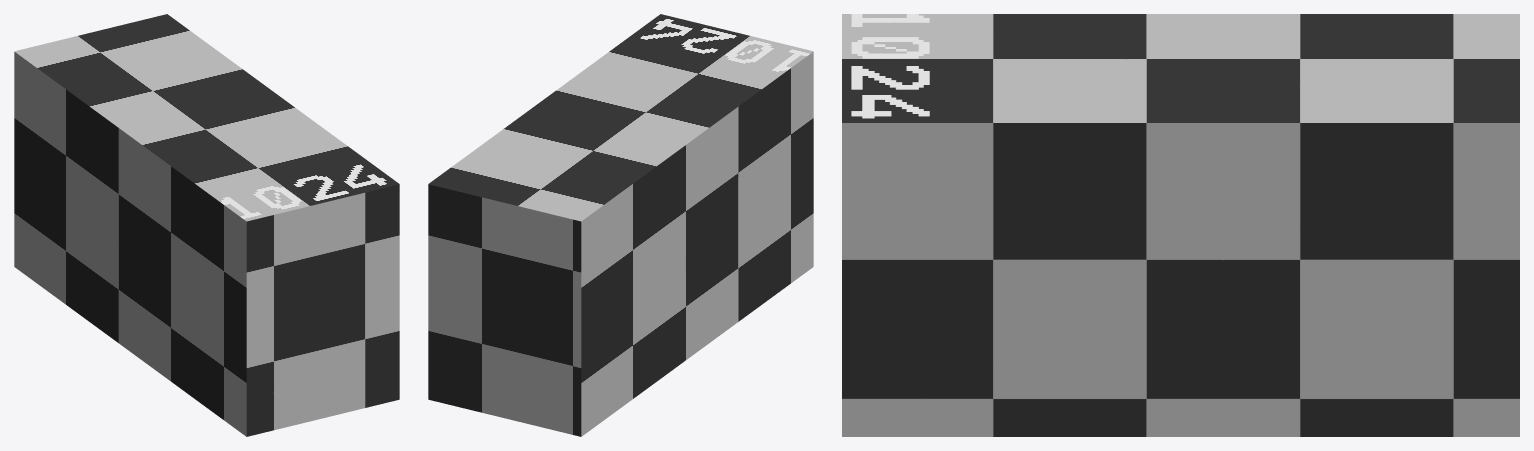
File: level2.glb
3 renders of one model, left to right at view 1: azimuth 30°, elevation 25°; view 2: azimuth 150°, elevation 25°; view 3: azimuth 270°, elevation 25°, orthographic. The views are drawn at different scales.
Parts seen in each view (by area): view 1: Plane; view 2: Plane; view 3: Plane.
Boxes of the visible parts, x1,y1,x2,y2 form: Plane: [14, 14, 399, 436]; Plane: [428, 14, 813, 436]; Plane: [842, 14, 1519, 436].
Bounding box in the file's own units: 32.85 × 44.16 × 86.39.
Materials: 1 (1 with a texture image).
